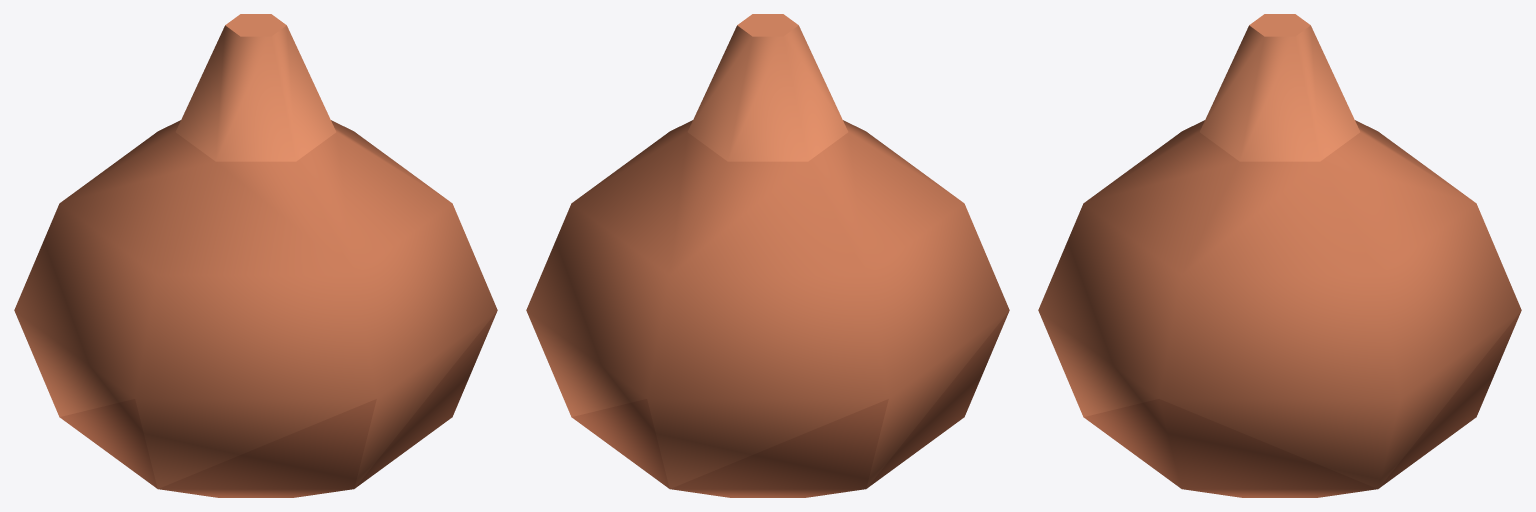
File: cebola.glb
3 views of the same model, side by side, from view 1: azimuth 30°, elevation 25°; view 2: azimuth 150°, elevation 25°; view 3: azimuth 270°, elevation 25° (orthographic).
Visible parts, largest first — view 1: onion; view 2: onion; view 3: onion.
Boxes of the visible parts, bbox=[...] form: onion: bbox=[14, 14, 497, 497]; onion: bbox=[526, 14, 1009, 497]; onion: bbox=[1038, 14, 1521, 497].
Bounding box in the file's own units: 0.213 × 0.25 × 0.246.
